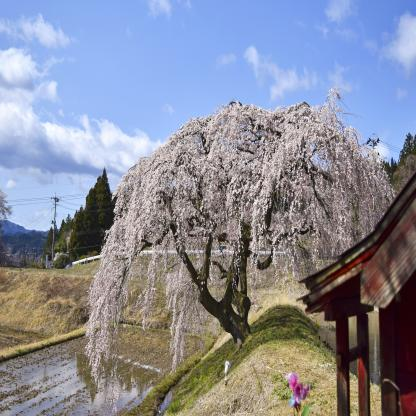ShidareZakura: (80, 85, 416, 416)
